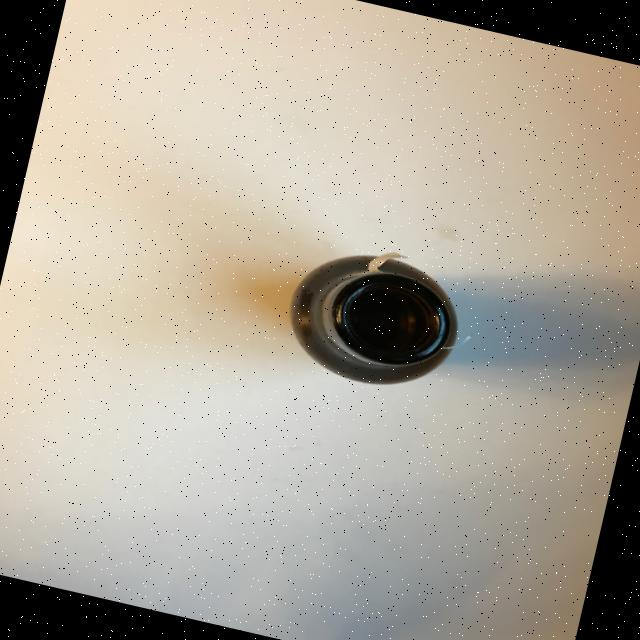glass: (260, 210, 506, 426)
